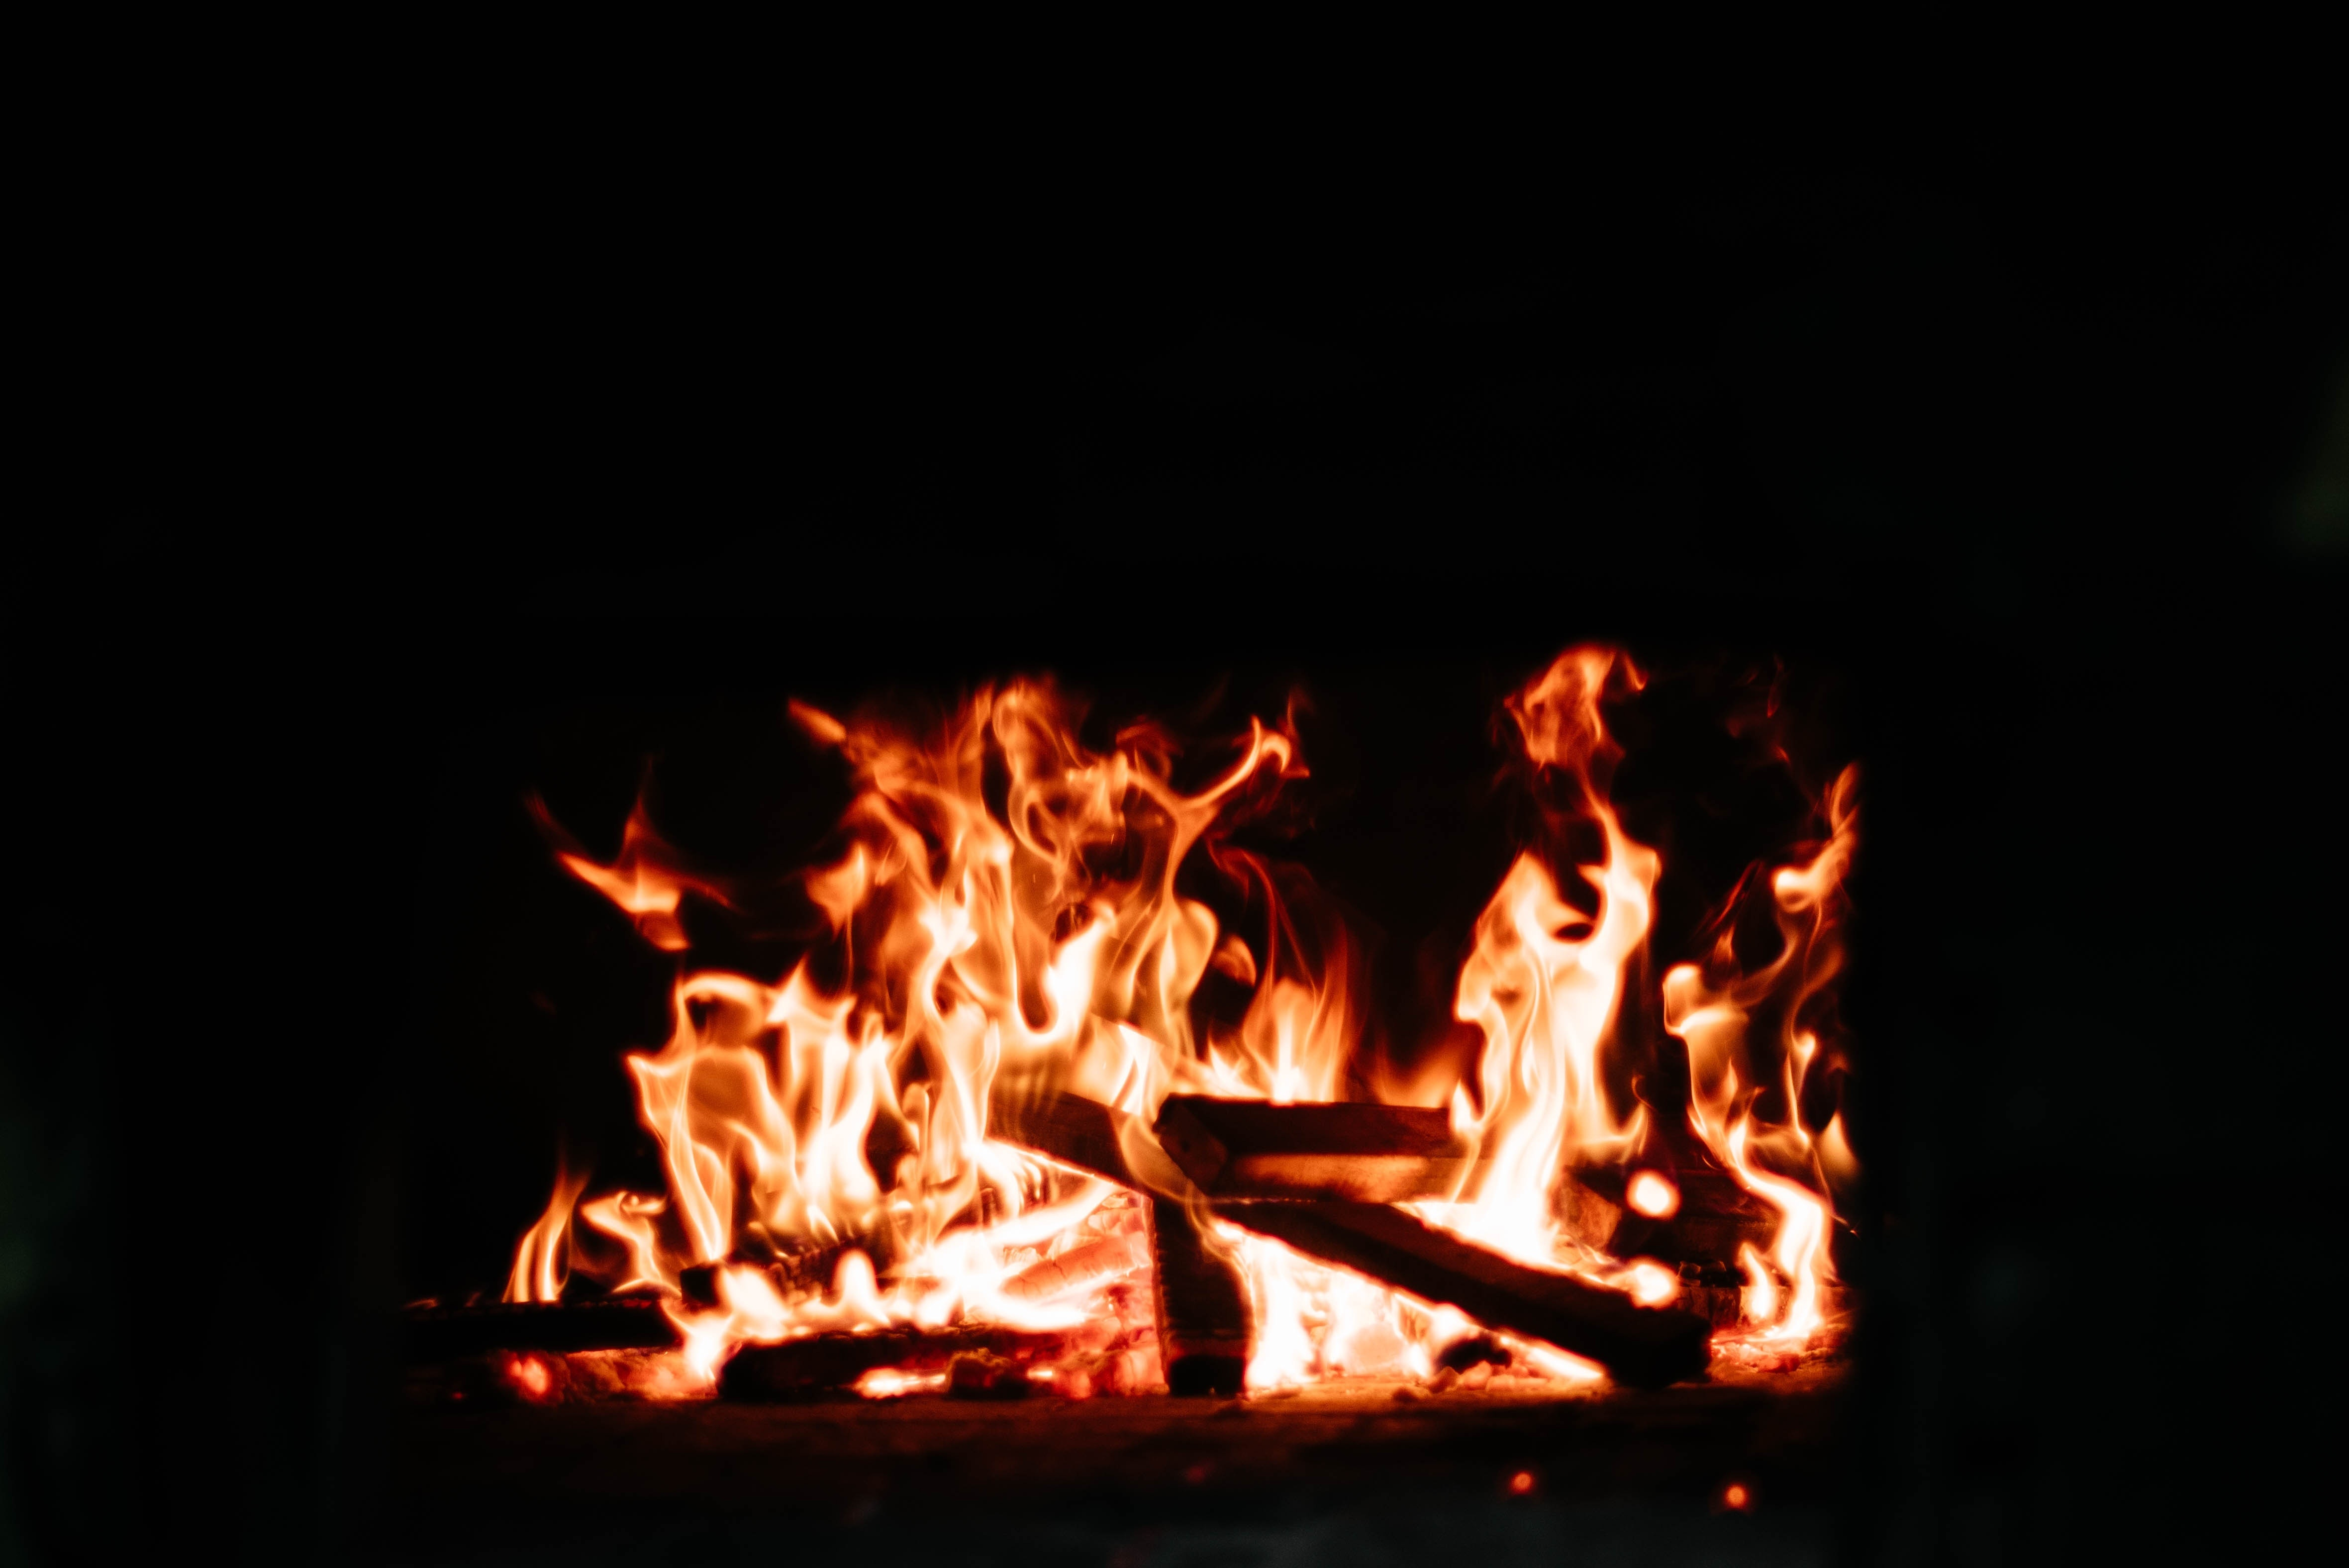fire: (518, 630, 1865, 1431)
